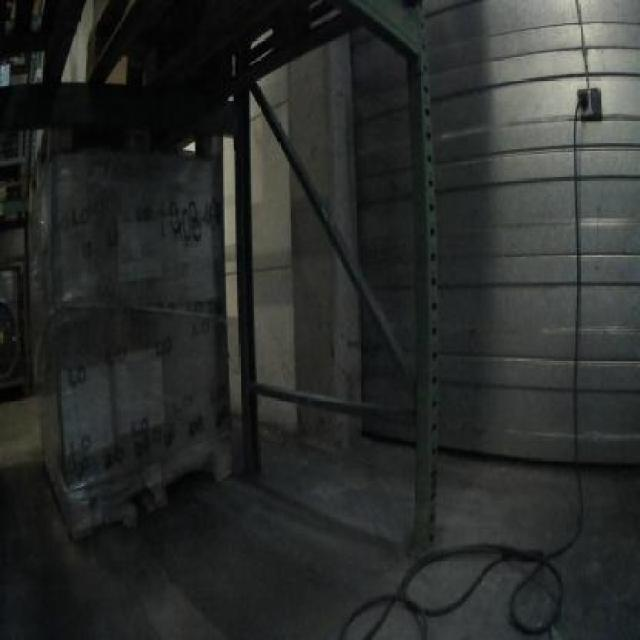ground: (0, 450, 638, 638), (258, 424, 415, 537)
pallet: (35, 424, 237, 550), (0, 0, 252, 87), (28, 124, 219, 200), (0, 171, 32, 206), (0, 373, 33, 406)
